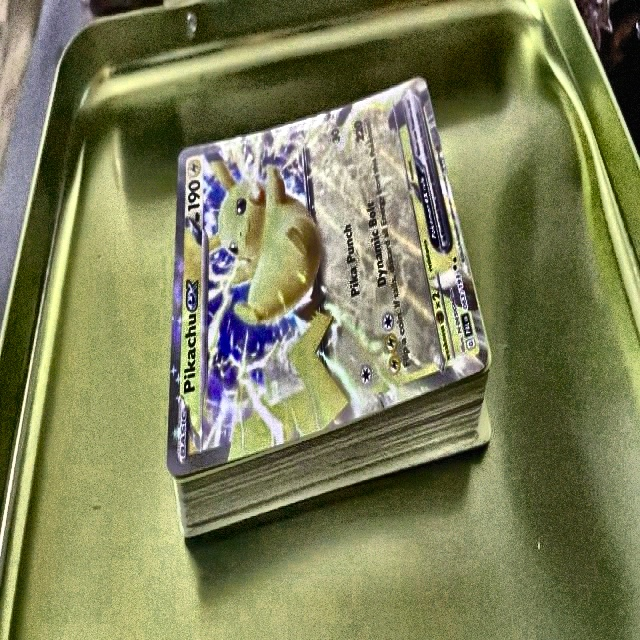card: (166, 75, 489, 479)
